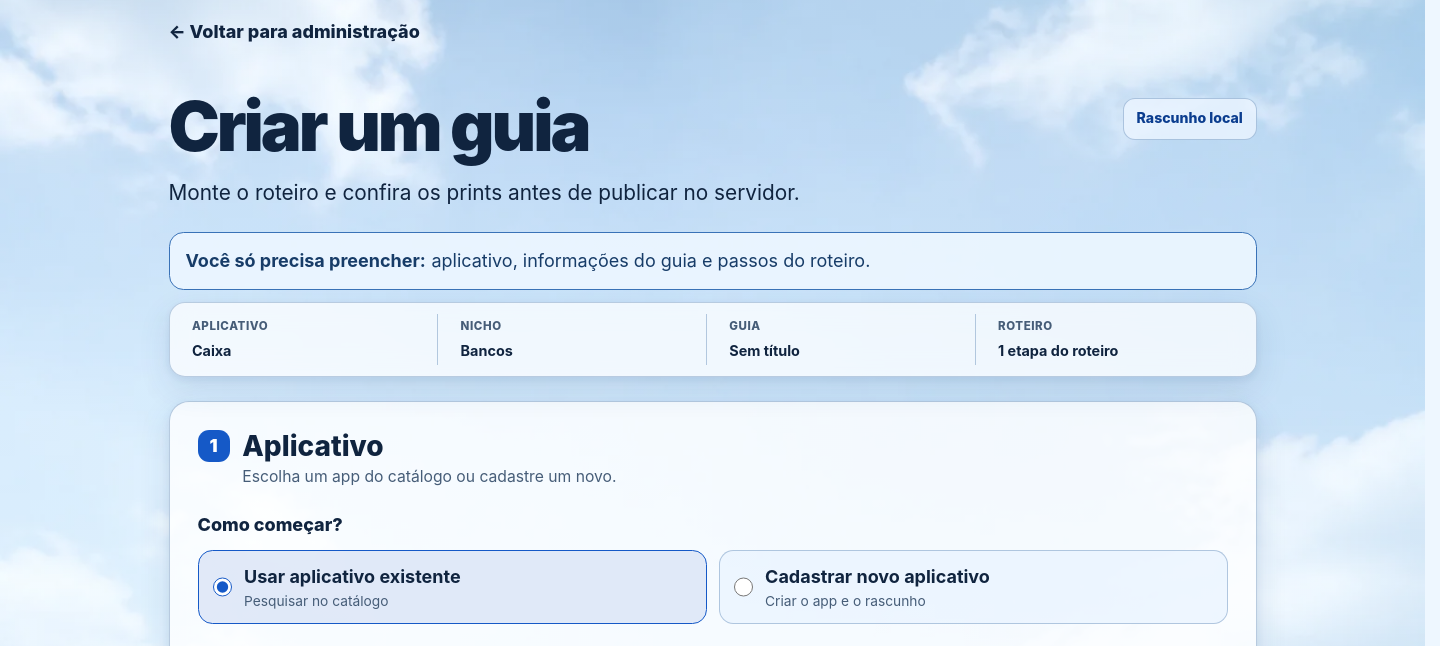
Scenario: formulário de criação de guias › mostra o campo de logotipo somente ao cadastrar um aplicativo novo
The image size is (1440, 646).
Expected: the field labelled "Escolher logotipo" is not shown
Step 1. Click the radio button labelled "Cadastrar novo aplicativo Criar o app e o rascunho" → (744, 587), box x1=734 y1=577 x2=753 y2=596
(page scrolled)
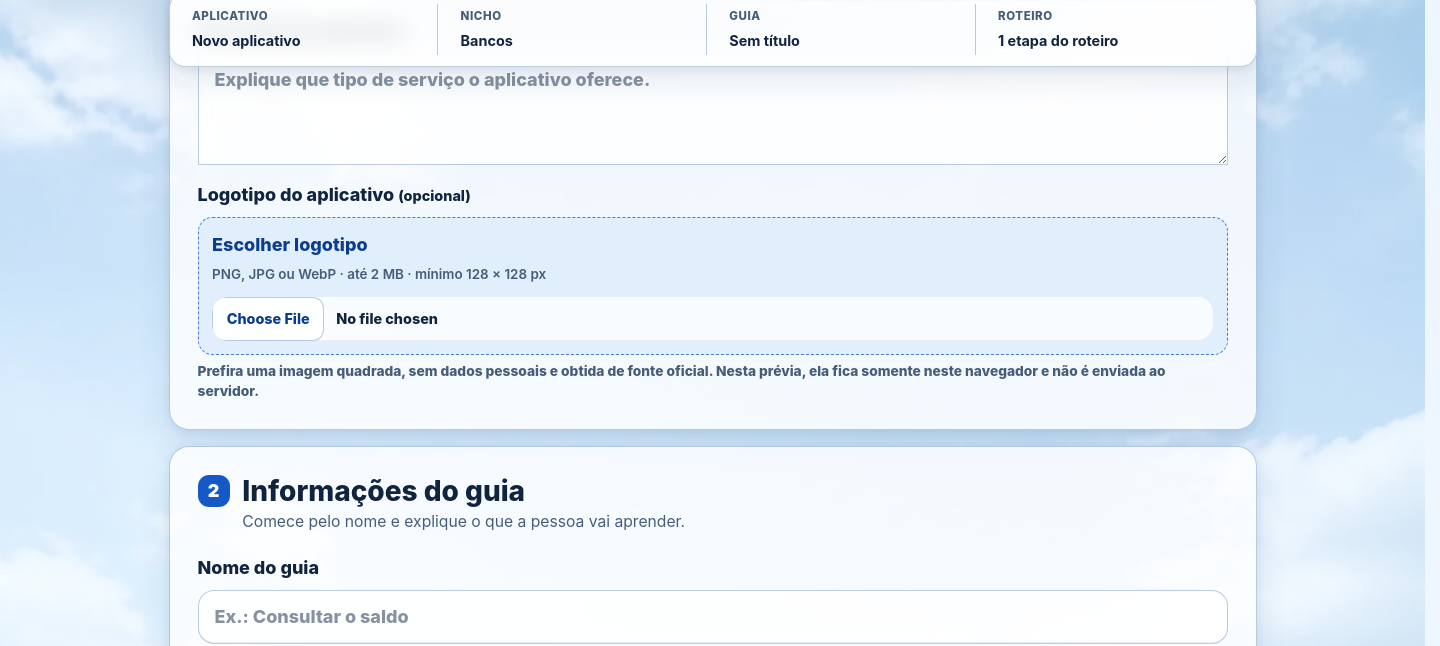
Expected: the text "não é enviada ao servidor" is shown, x1=198 y1=363 x2=1166 y2=399
